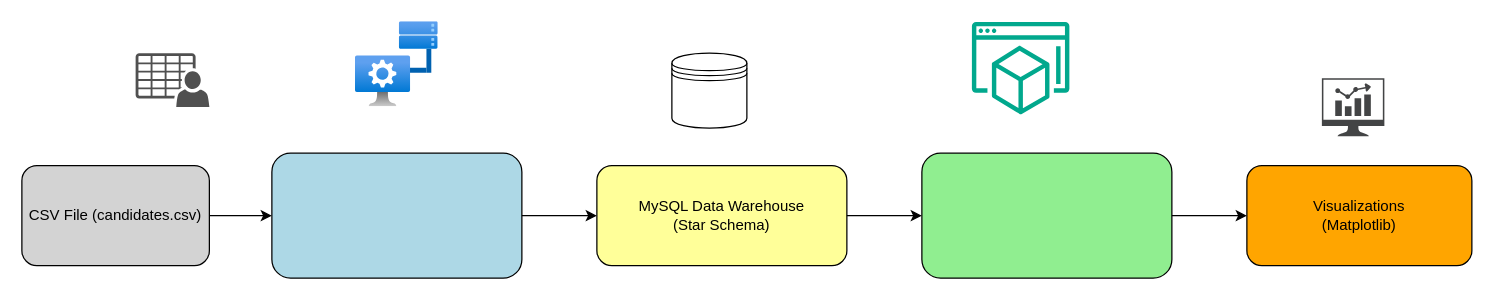
The diagram is 1494 pixels wide and 300 high, and some of its shapes have lost their labels. Here are the shapes that lost their labels. From the top down, the centre of each, then its label:
At [396,215]: "Python ETL (Pandas) - Cleaning - Transformation - Business Rule".
At [1046,215]: "SQL Queries (KPIs) - Hires - Hire Rate - Scores".
